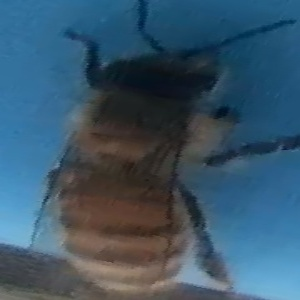bee: (32, 1, 295, 300)
